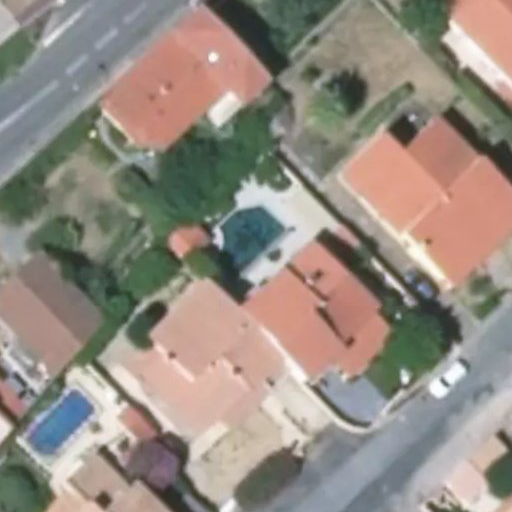pool: (213, 206, 288, 277), (21, 391, 95, 461)
